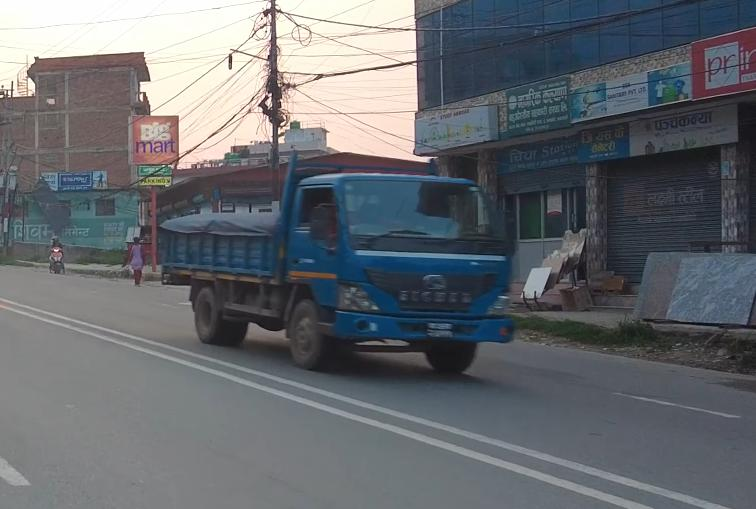mini_truck: (150, 154, 526, 384)
scooter: (40, 226, 69, 274)
